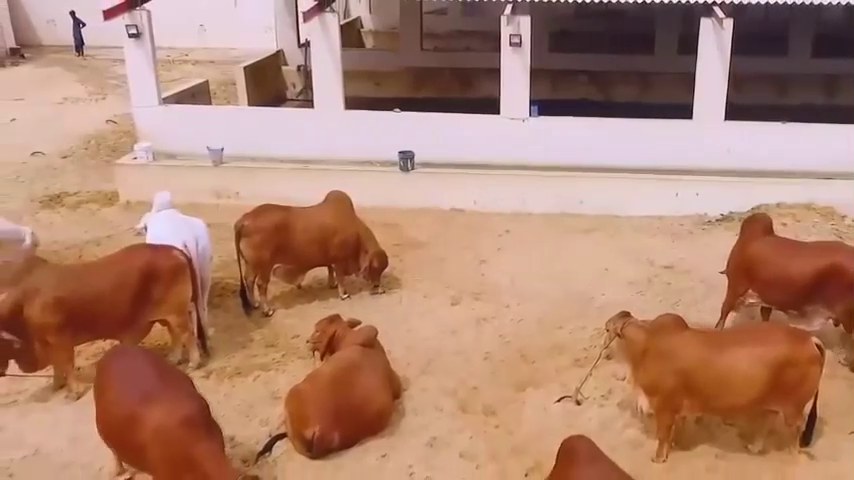bo: (600, 305, 821, 455), (3, 245, 207, 397), (87, 334, 254, 480), (230, 186, 395, 317), (713, 208, 854, 343), (277, 313, 401, 456), (128, 194, 219, 340), (546, 429, 646, 480)
